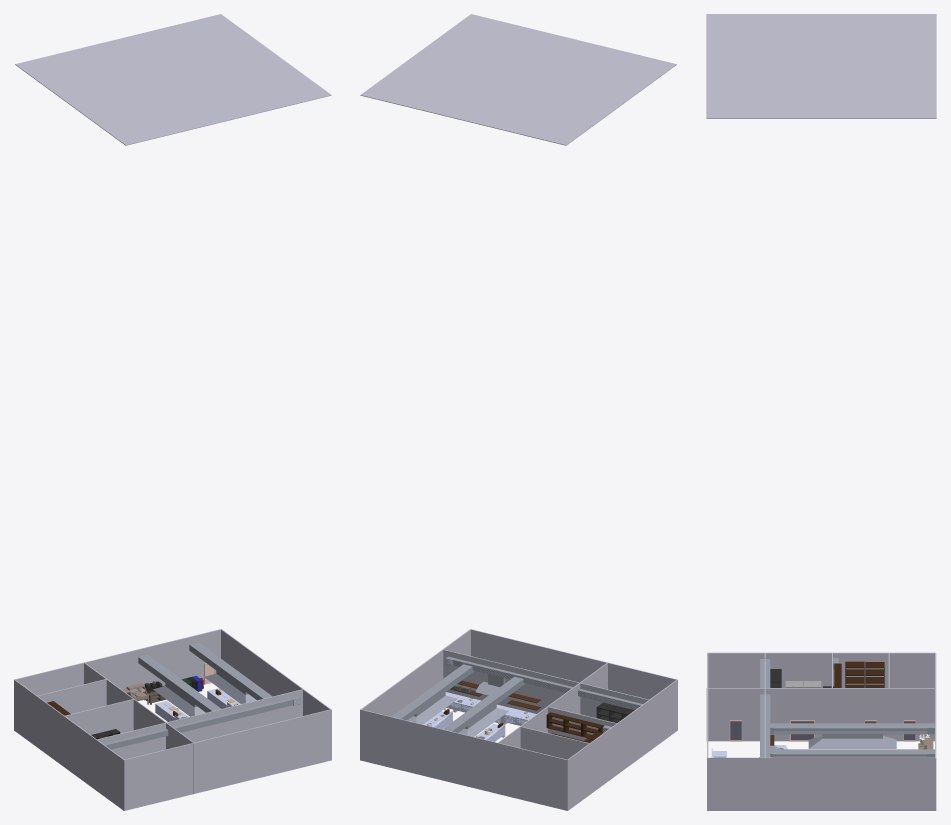
The model's file is kitchen2.0.fbx.
3 renders of one model, left to right at view 1: azimuth 30°, elevation 25°; view 2: azimuth 150°, elevation 25°; view 3: azimuth 270°, elevation 25°, orthographic. The views are drawn at different scales.
Parts seen in each view (by area): view 1: Cube.024, Plane.027, Plane.031, Plane.028, Plane.006, Plane.032, Plane.039, Ventilation_2.003, Plane.040, Plane.030, Ventilation_2.002, Ventilation_2.001; view 2: Cube.024, Plane.028, Plane.031, Plane.027, Plane.006, Plane.032, Ventilation_2.004, Plane.040, Plane.030, Ventilation_2.002, Ventilation_2.001, Plane.039; view 3: Cube.024, Plane.032, Plane.031, Plane.030, Plane.042, Ventilation_2.001, Ventilation_2.002, Cube.020, Ventilation_2.004, Plane.024, Plane.014, Ventilation_2.003.
Boxes of the visible parts, x1=… form: Cube.024: x1=15, y1=14, x2=331, y2=145; Plane.027: x1=124, y1=709, x2=331, y2=810; Plane.031: x1=14, y1=679, x2=124, y2=810; Plane.028: x1=14, y1=629, x2=221, y2=695; Plane.006: x1=97, y1=689, x2=303, y2=759; Plane.032: x1=221, y1=629, x2=331, y2=715; Plane.039: x1=64, y1=699, x2=133, y2=734; Ventilation_2.003: x1=103, y1=698, x2=293, y2=749; Plane.040: x1=37, y1=679, x2=106, y2=713; Plane.030: x1=84, y1=663, x2=166, y2=730; Ventilation_2.002: x1=189, y1=642, x2=272, y2=700; Ventilation_2.001: x1=138, y1=655, x2=221, y2=712; Cube.024: x1=360, y1=14, x2=676, y2=145; Plane.028: x1=360, y1=709, x2=567, y2=810; Plane.031: x1=567, y1=679, x2=677, y2=810; Plane.027: x1=470, y1=629, x2=676, y2=699; Plane.006: x1=442, y1=649, x2=648, y2=717; Plane.032: x1=361, y1=629, x2=470, y2=716; Ventilation_2.004: x1=453, y1=658, x2=642, y2=709; Plane.040: x1=520, y1=726, x2=589, y2=759; Plane.030: x1=498, y1=683, x2=580, y2=747; Ventilation_2.002: x1=392, y1=664, x2=474, y2=720; Ventilation_2.001: x1=443, y1=676, x2=525, y2=732; Plane.039: x1=548, y1=706, x2=616, y2=740; Cube.024: x1=706, y1=14, x2=936, y2=118; Plane.032: x1=708, y1=757, x2=934, y2=810; Plane.031: x1=707, y1=652, x2=935, y2=687; Plane.030: x1=765, y1=688, x2=934, y2=741; Plane.042: x1=706, y1=688, x2=764, y2=741; Ventilation_2.001: x1=770, y1=723, x2=934, y2=734; Ventilation_2.002: x1=770, y1=749, x2=934, y2=757; Cube.020: x1=808, y1=736, x2=896, y2=748; Ventilation_2.004: x1=765, y1=659, x2=770, y2=756; Plane.024: x1=845, y1=661, x2=864, y2=687; Plane.014: x1=865, y1=662, x2=884, y2=687; Ventilation_2.003: x1=760, y1=659, x2=764, y2=756.
Bounding box in the file's own units: 2542 × 7786 × 2346.
